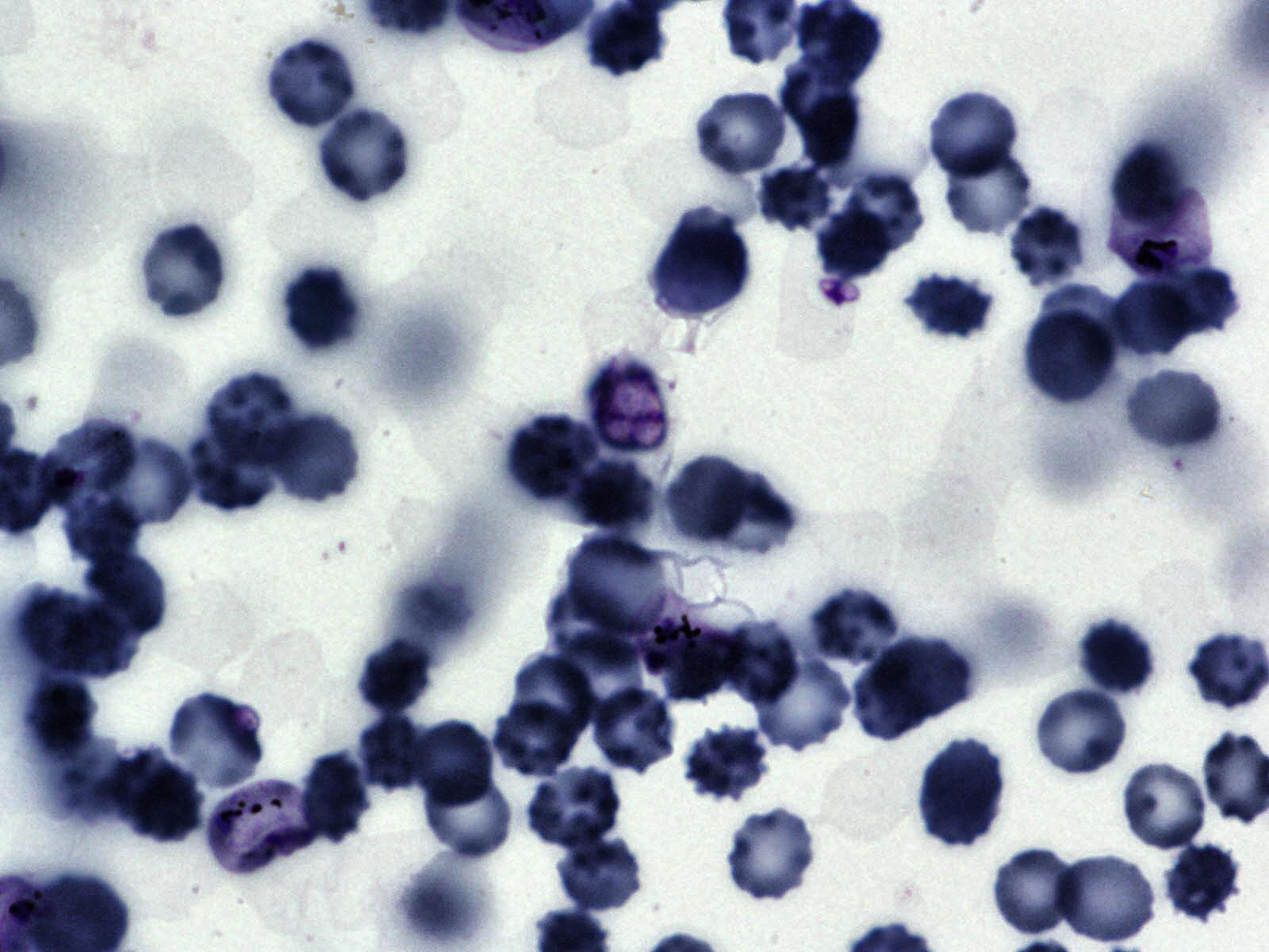Infected: (204, 779, 314, 878), (629, 585, 741, 678), (1106, 185, 1211, 277)
Uninfected: (163, 693, 266, 795), (17, 590, 136, 678), (752, 651, 853, 753), (649, 218, 749, 319), (918, 739, 1009, 849), (135, 222, 231, 324), (1054, 854, 1159, 946), (417, 766, 516, 863), (315, 105, 413, 202), (568, 534, 661, 636), (1115, 757, 1212, 854), (724, 806, 820, 904), (1030, 687, 1133, 778), (38, 416, 136, 511), (266, 411, 362, 507), (505, 409, 601, 505), (263, 38, 359, 132), (114, 749, 205, 847), (941, 144, 1036, 237), (925, 90, 1022, 181), (875, 636, 971, 727), (1022, 311, 1111, 408), (209, 371, 297, 469), (780, 58, 859, 165), (1123, 363, 1220, 450), (707, 467, 798, 559), (990, 846, 1079, 939), (550, 635, 643, 724), (666, 453, 753, 548), (192, 420, 275, 516), (102, 437, 190, 527), (837, 171, 927, 258), (527, 768, 620, 850), (412, 719, 497, 808), (279, 263, 362, 353), (696, 92, 784, 176), (592, 687, 673, 777), (719, 620, 802, 707), (555, 835, 644, 915), (853, 654, 931, 744), (683, 725, 773, 802), (809, 586, 899, 663), (512, 656, 594, 740), (1187, 630, 1268, 713), (903, 270, 993, 344), (814, 202, 894, 285), (82, 555, 163, 636), (1010, 206, 1087, 291), (491, 703, 575, 780), (1111, 281, 1197, 356), (304, 748, 370, 845), (572, 460, 656, 534), (63, 493, 142, 570), (1160, 848, 1244, 920), (1152, 266, 1235, 338), (755, 164, 839, 234), (358, 640, 435, 716), (29, 676, 97, 758), (1111, 146, 1181, 225), (1082, 617, 1150, 697), (358, 714, 425, 793)
